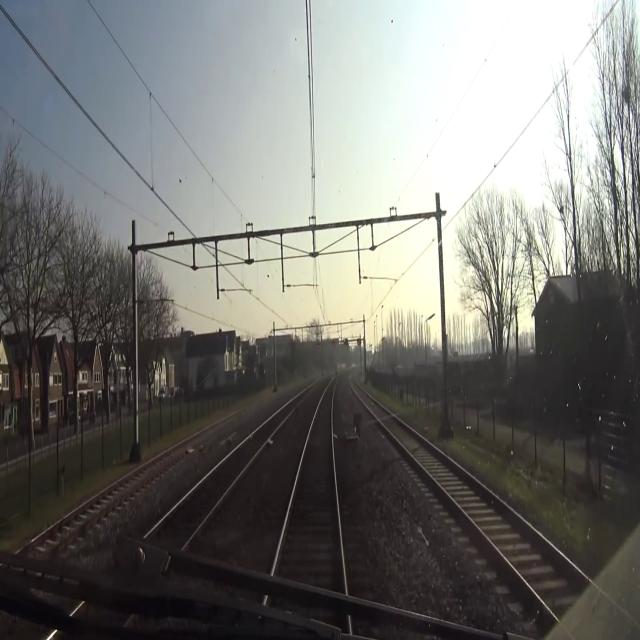rail-track: (351, 373, 560, 589), (148, 398, 298, 549), (274, 382, 344, 600), (11, 478, 131, 567)
